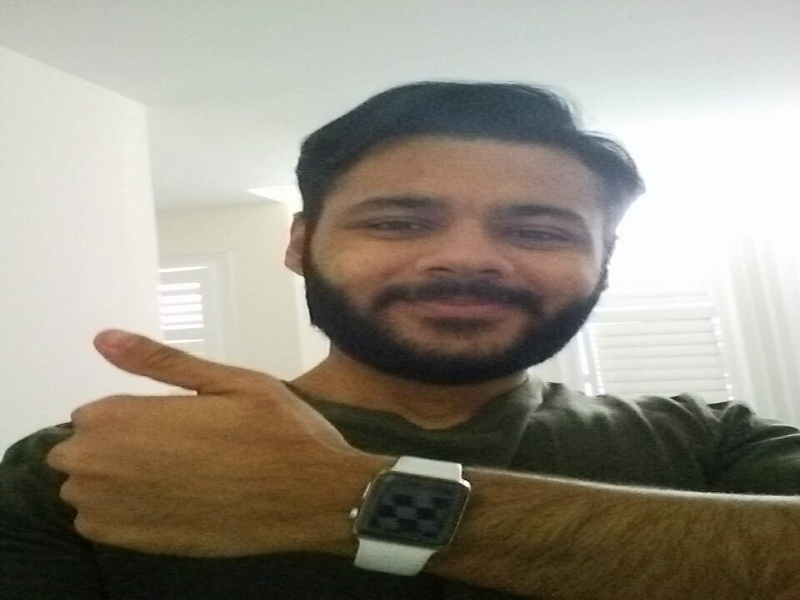smile: (315, 138, 605, 366)
thumbup: (48, 329, 348, 564)
